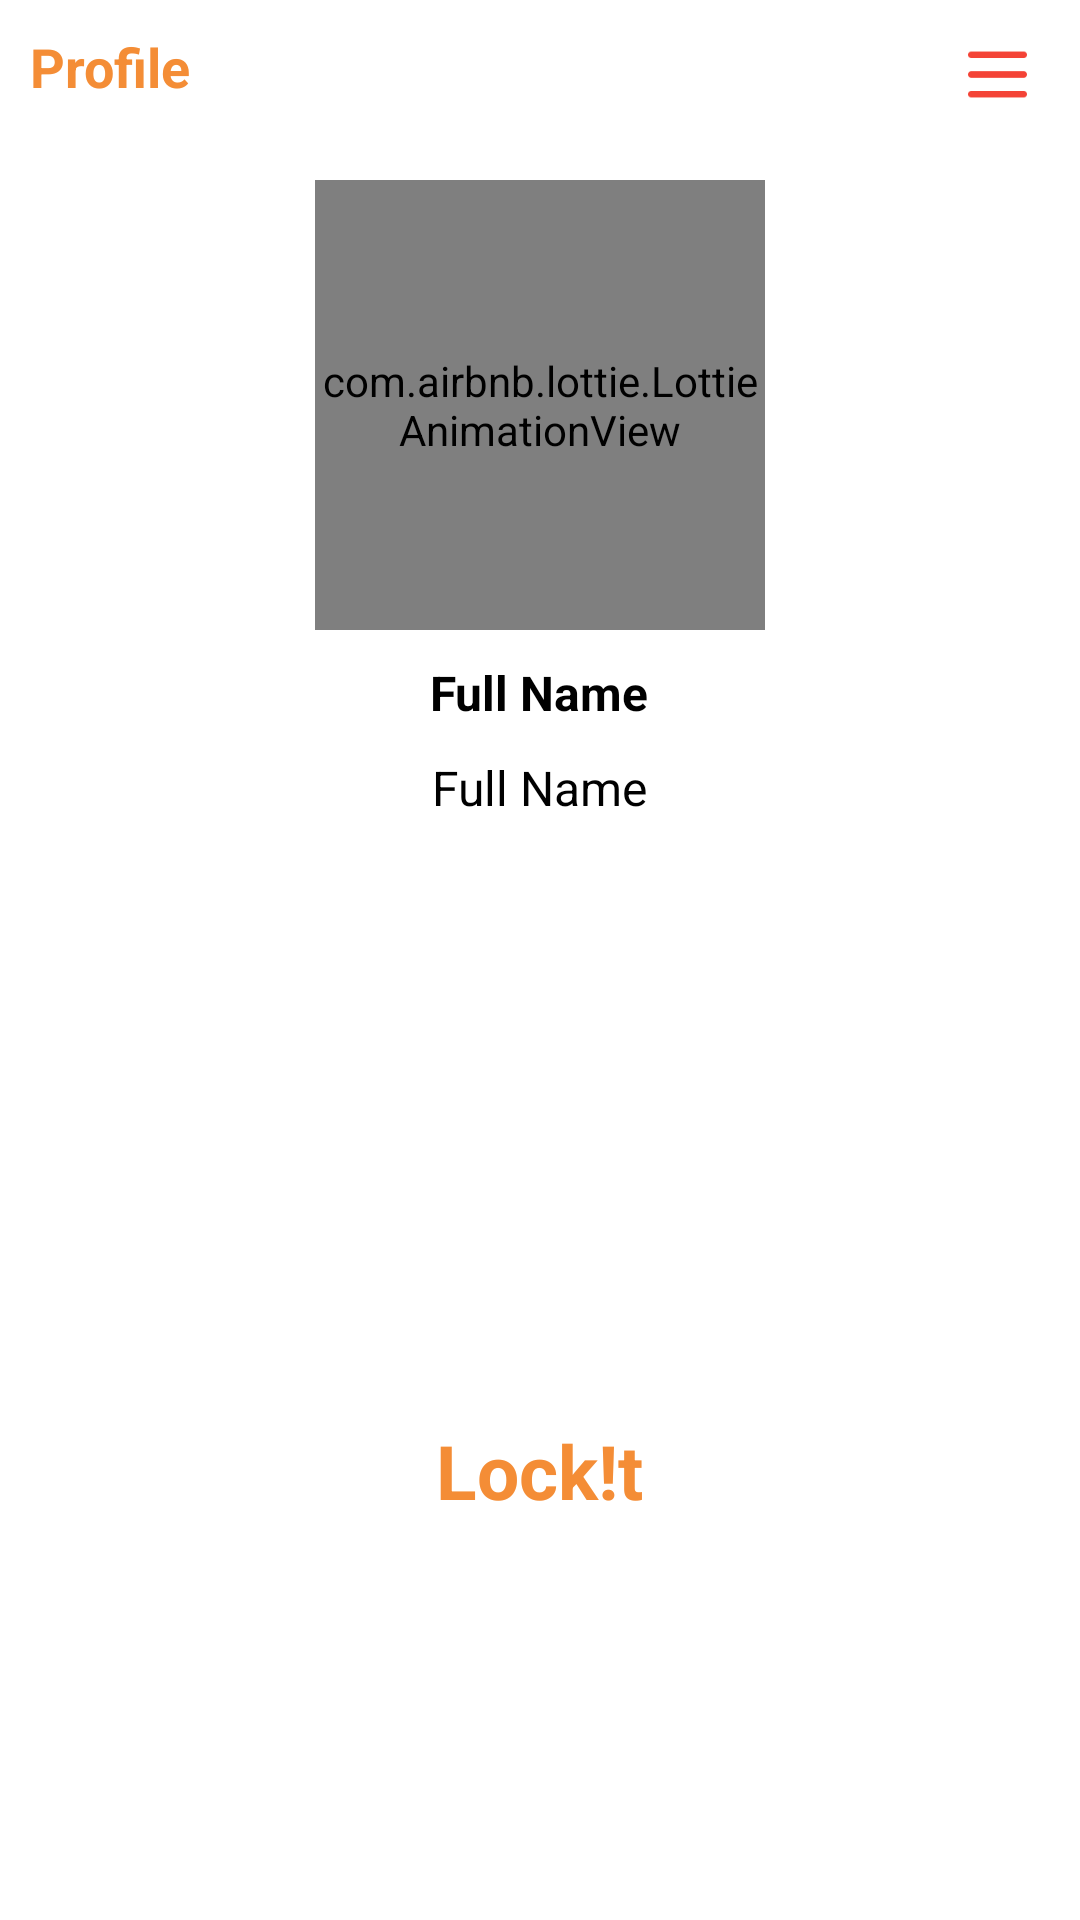

Icon bounding boxes for this 1080×1920 phone screenshot, format (x1, y1, x2, y2):
menu: (968, 51, 1027, 98)
